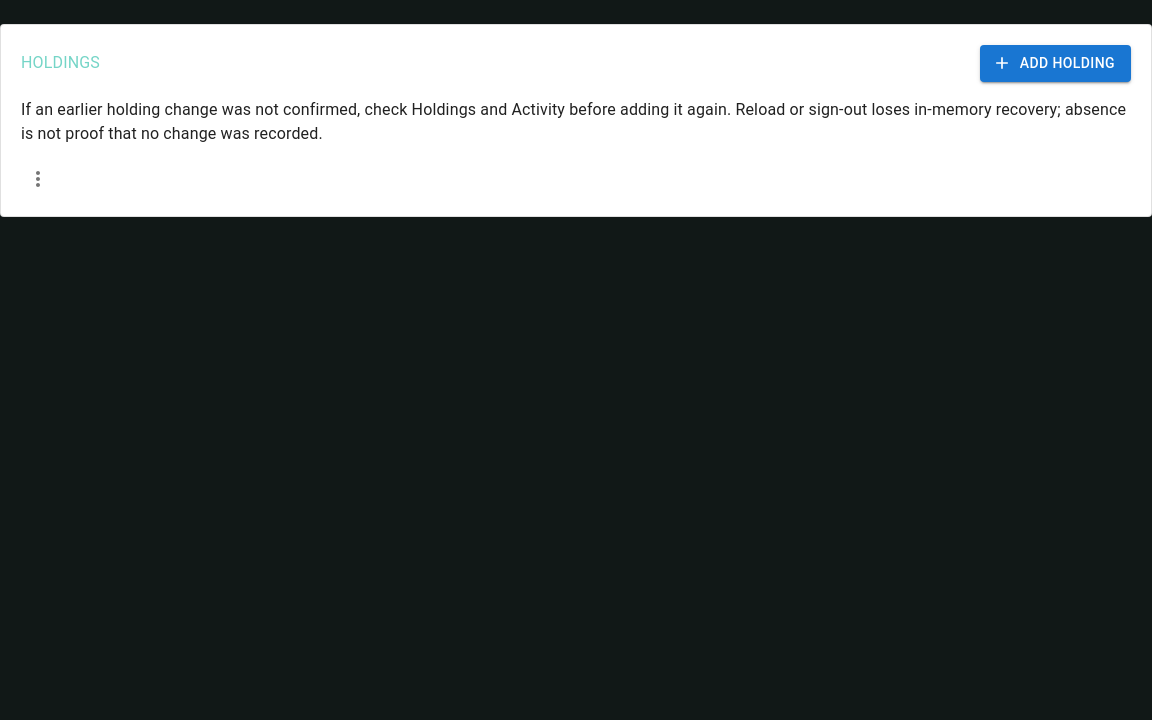
Test: HoldingMutations › uses real MUI dialog, menu, and form primitives for mutation surfaces
Later steps or results of the test are not shown.
Click the button "Add holding". click: (1055,63)
box: [980,45,1131,82]
(page scrolled)
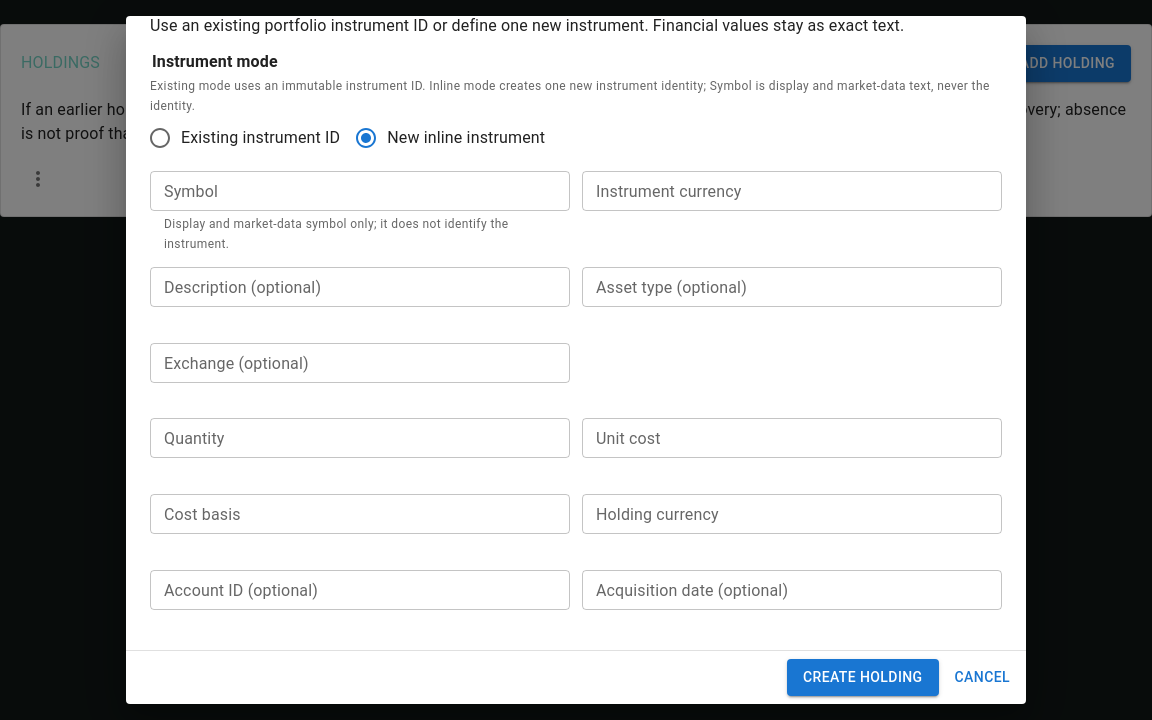
Now the element that starts with "Add one holding" is shown
Click the button "Cancel". click: (982,677)
box: [946,659,1018,696]
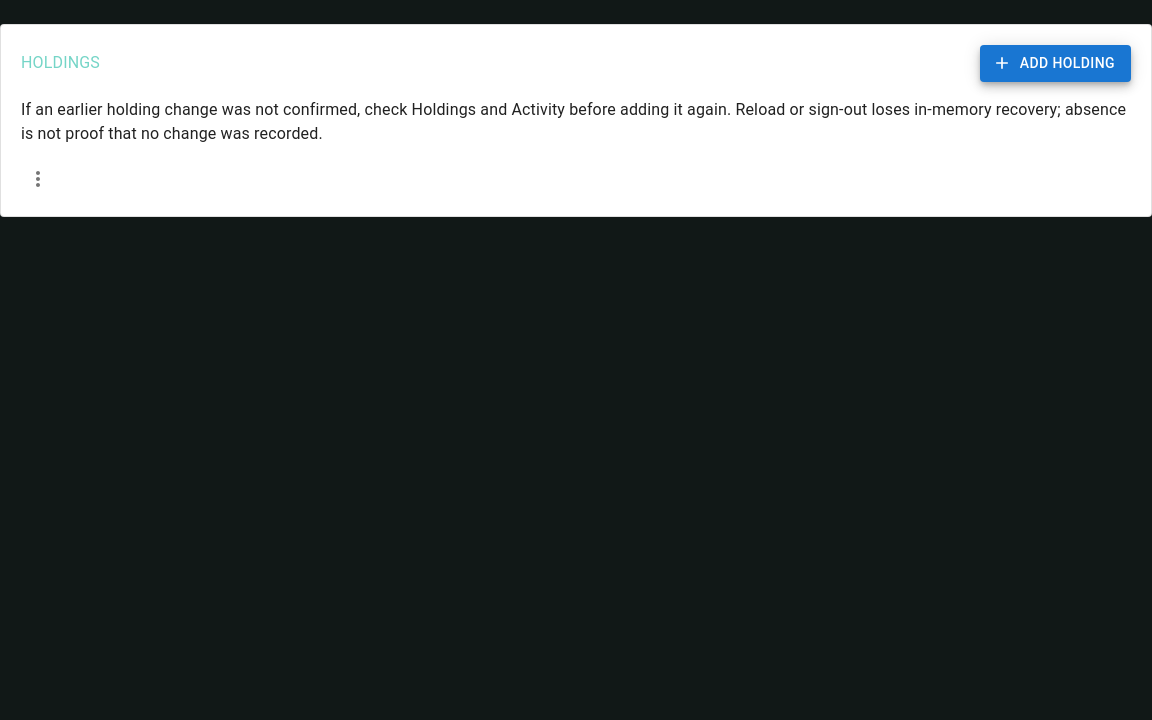
Click the button named "Actions for AAA lot lot-a". click: (38,178)
box: [21,162,55,196]
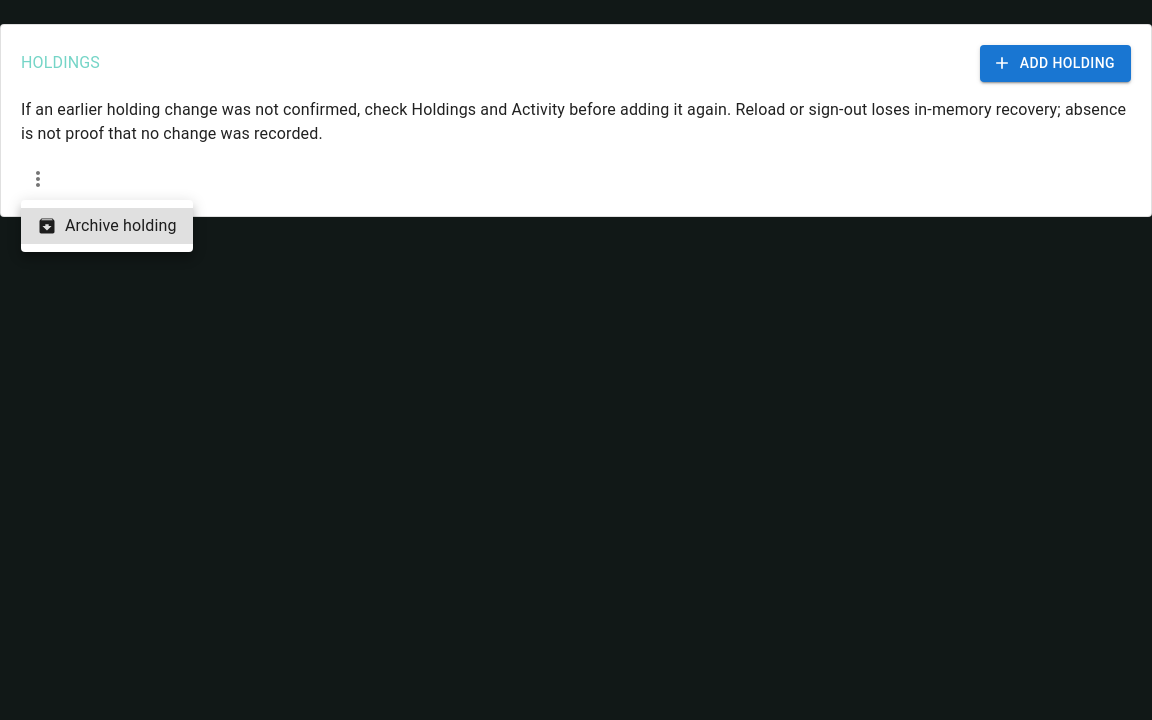
Now the element showing "Archive holding" is shown, box [21,200,193,252]
